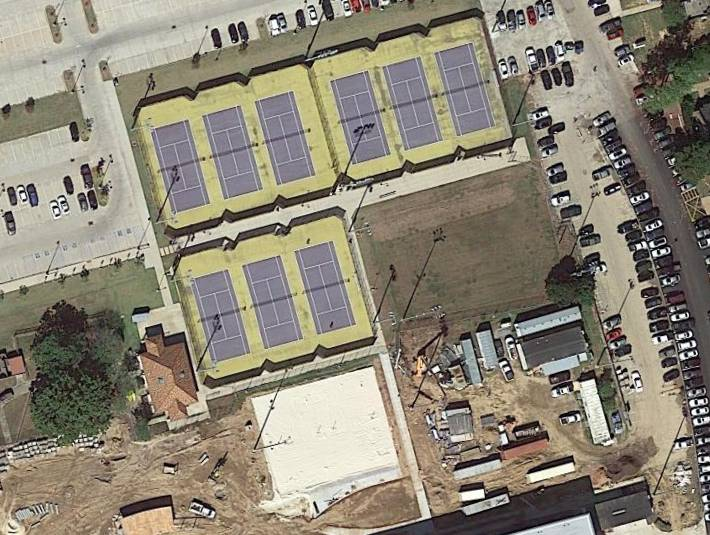small vehicle: (523, 46, 542, 74), (497, 359, 517, 384), (634, 207, 661, 225), (656, 263, 684, 280), (590, 164, 615, 183), (600, 129, 623, 148), (651, 330, 675, 348), (599, 18, 624, 35), (559, 204, 584, 221), (547, 370, 572, 387), (504, 335, 520, 361), (550, 383, 576, 399), (591, 111, 614, 129), (596, 120, 619, 138), (558, 411, 582, 428), (4, 210, 19, 237), (80, 165, 96, 190), (671, 318, 696, 334), (602, 314, 624, 332), (615, 164, 638, 181), (625, 181, 648, 198), (632, 199, 655, 216), (642, 217, 665, 234), (561, 63, 577, 87), (659, 273, 683, 289), (611, 344, 635, 360), (648, 319, 672, 335), (628, 190, 652, 206), (661, 368, 683, 385), (644, 227, 667, 243), (625, 239, 648, 255), (579, 234, 603, 249), (608, 146, 629, 163), (613, 154, 634, 171), (603, 139, 625, 155), (604, 327, 626, 343), (548, 171, 570, 187), (617, 220, 639, 236), (651, 244, 674, 259), (653, 255, 676, 270), (616, 52, 636, 69), (621, 172, 641, 189), (266, 16, 282, 37), (275, 13, 291, 34), (26, 184, 40, 208), (665, 301, 689, 315), (646, 306, 667, 322), (631, 248, 652, 264), (539, 70, 554, 92), (545, 163, 567, 178), (608, 337, 630, 352), (647, 235, 669, 250), (495, 11, 509, 34), (664, 292, 687, 306), (675, 338, 698, 352), (680, 358, 703, 372), (550, 193, 573, 207), (658, 345, 678, 361), (506, 57, 521, 78), (536, 135, 557, 150), (539, 145, 560, 160), (76, 192, 91, 213), (57, 195, 72, 216), (48, 200, 63, 221), (603, 182, 624, 197), (623, 229, 644, 244), (544, 0, 558, 22), (210, 28, 224, 50), (86, 190, 100, 212), (678, 348, 700, 362), (684, 376, 706, 390), (535, 117, 555, 132), (636, 270, 656, 285), (577, 223, 597, 238), (526, 5, 539, 28), (683, 368, 706, 381), (686, 387, 709, 400), (497, 60, 511, 81), (547, 122, 568, 136), (237, 21, 251, 42), (674, 328, 695, 342), (689, 396, 710, 410), (536, 1, 549, 23), (69, 121, 82, 143), (606, 27, 625, 42), (634, 260, 653, 275), (589, 261, 608, 276), (531, 109, 551, 123), (16, 185, 30, 205), (669, 311, 692, 323), (536, 49, 549, 70), (228, 23, 241, 44), (551, 68, 565, 87), (307, 6, 320, 26), (6, 187, 19, 207), (644, 297, 664, 310), (660, 357, 680, 370), (593, 4, 611, 18), (613, 45, 631, 59), (295, 10, 308, 29), (62, 177, 75, 196), (516, 11, 528, 31), (546, 46, 557, 67), (507, 10, 517, 33), (640, 286, 659, 298), (555, 43, 566, 63), (690, 406, 710, 417)
tennis court: (188, 267, 254, 366), (240, 254, 306, 352), (293, 240, 358, 338), (148, 117, 211, 218), (201, 103, 265, 202), (254, 89, 318, 188), (382, 55, 446, 153), (329, 70, 393, 167), (433, 42, 496, 140)
